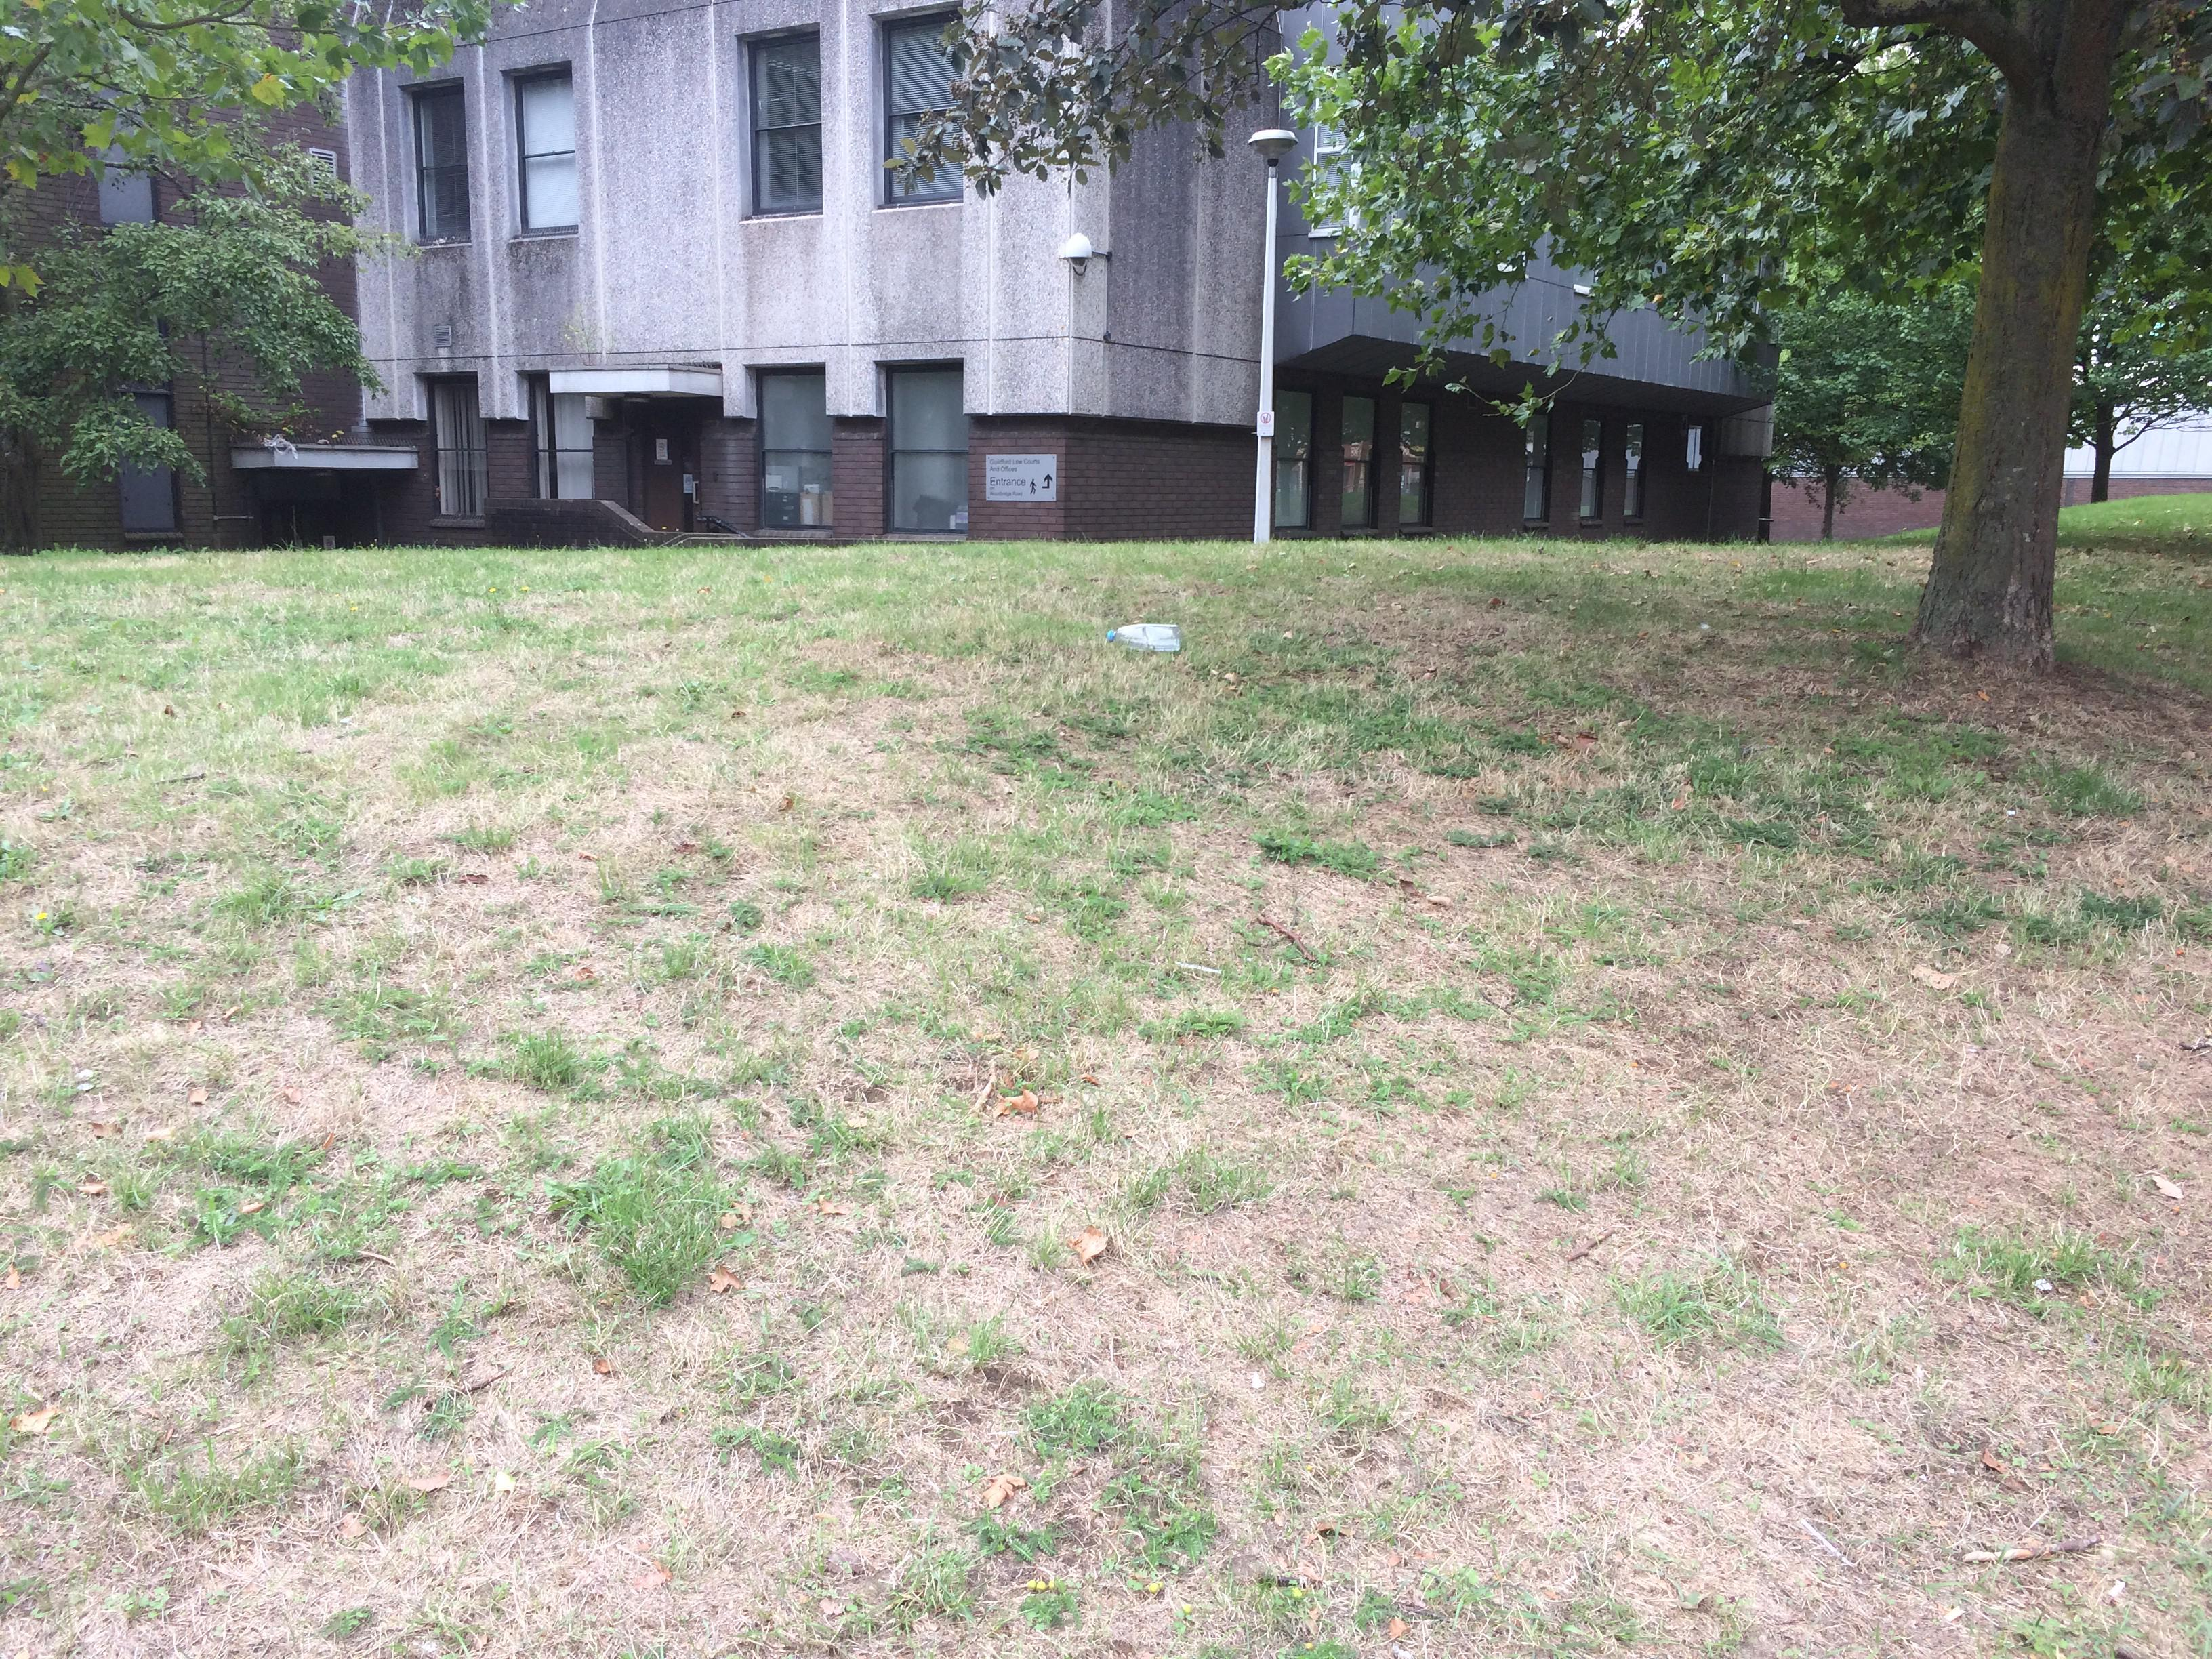Trash: (1106, 622, 1181, 653)
